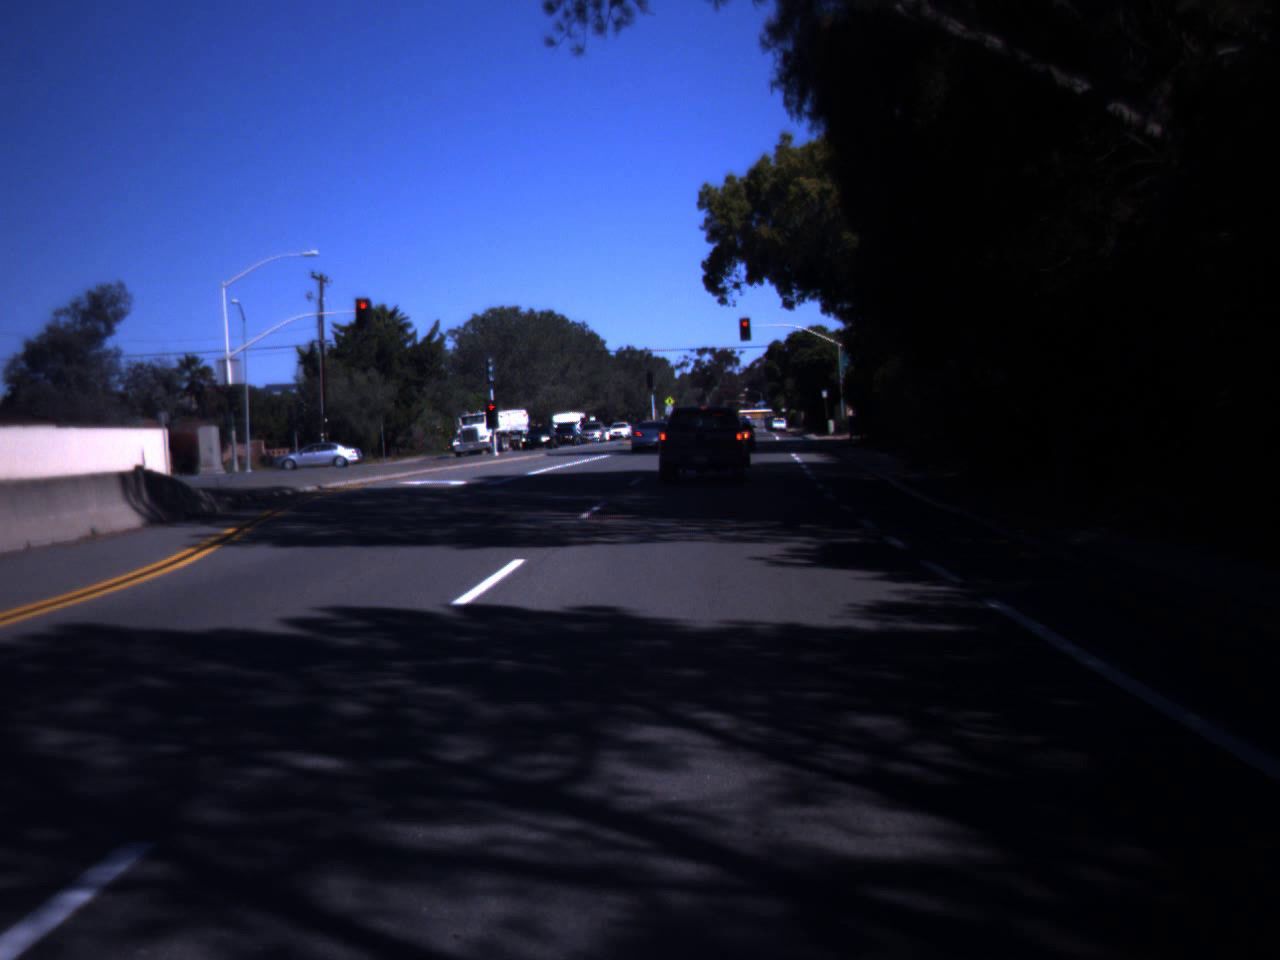stop: (357, 302, 369, 320), (486, 404, 498, 422)
